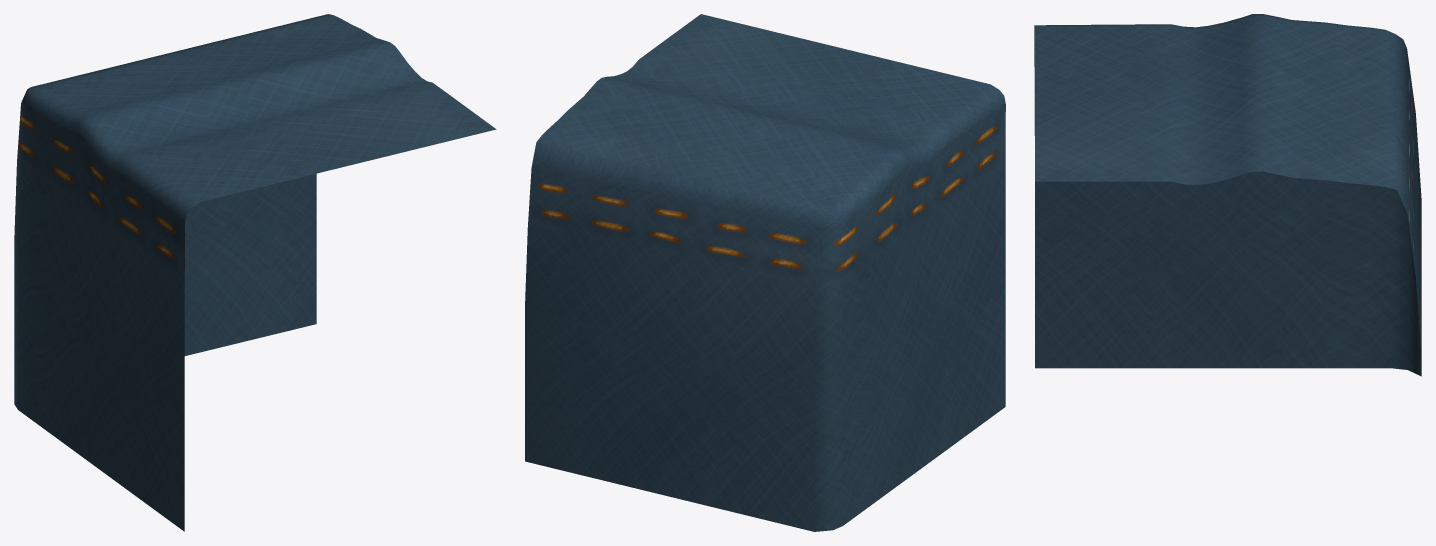
File: tl_cornerL.FBX
The picture shows the model from 3 angles, left to right: view 1: azimuth 30°, elevation 25°; view 2: azimuth 150°, elevation 25°; view 3: azimuth 270°, elevation 25°; orthographic projection. The views are drawn at different scales.
Visible parts, largest first — view 1: tl_cornerL_MESH; view 2: tl_cornerL_MESH; view 3: tl_cornerL_MESH.
Part boxes in pixels (box(x1,y1,x2,y2)): tl_cornerL_MESH: box(14, 14, 496, 531); tl_cornerL_MESH: box(525, 14, 1005, 531); tl_cornerL_MESH: box(1034, 14, 1421, 376).
Bounding box in the file's own units: 100 × 103 × 100.
